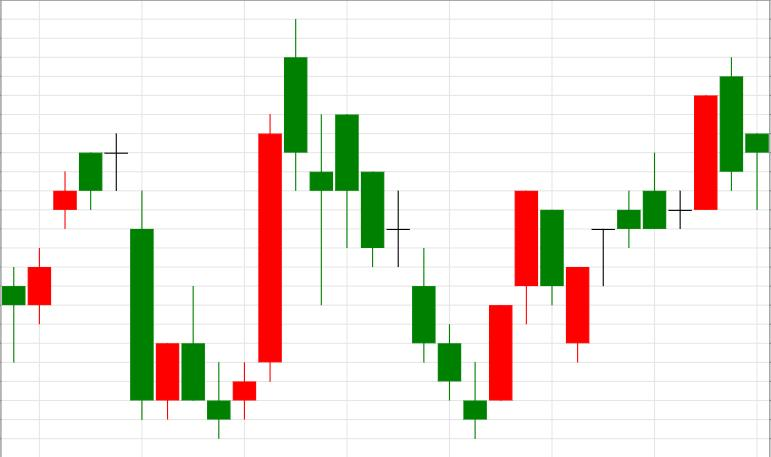morning_star_rise: (284, 19, 512, 438)
